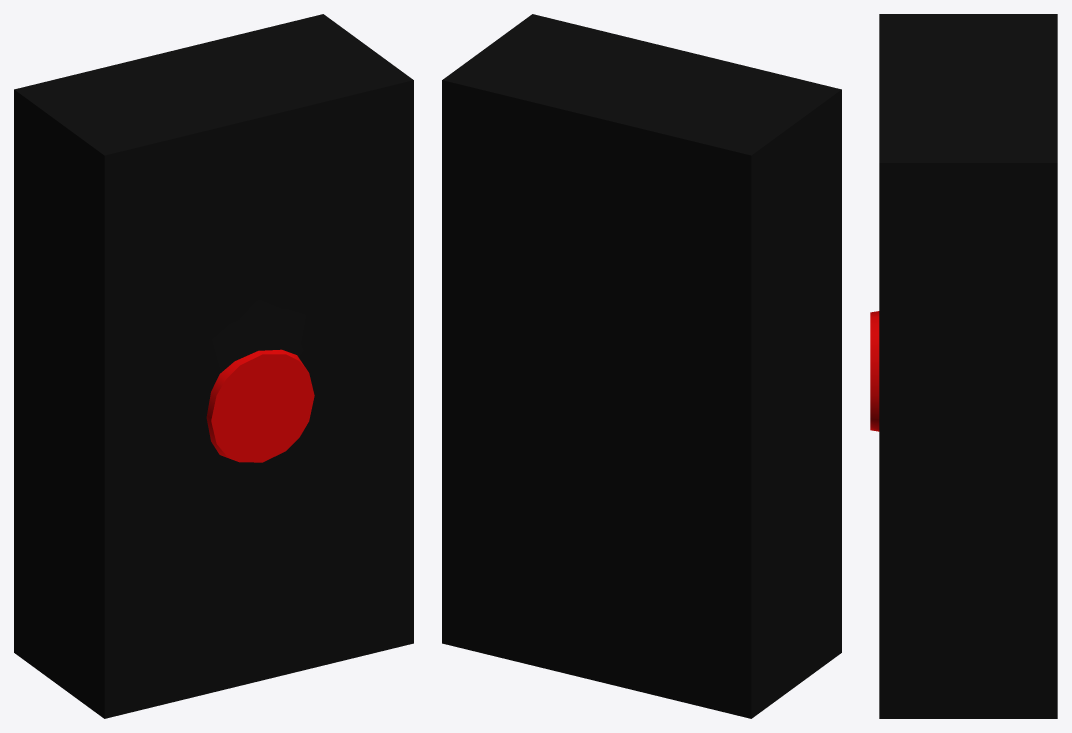
File: button.FBX
3 views of the same model, side by side, from view 1: azimuth 30°, elevation 25°; view 2: azimuth 150°, elevation 25°; view 3: azimuth 270°, elevation 25° (orthographic).
Visible parts, largest first — view 1: Button; view 2: Button; view 3: Button.
Part boxes in pixels (bbox=[...]): Button: bbox=[14, 14, 413, 718]; Button: bbox=[442, 14, 841, 718]; Button: bbox=[870, 14, 1057, 718].
Size of the model in its own units: 299 by 520 by 159.
